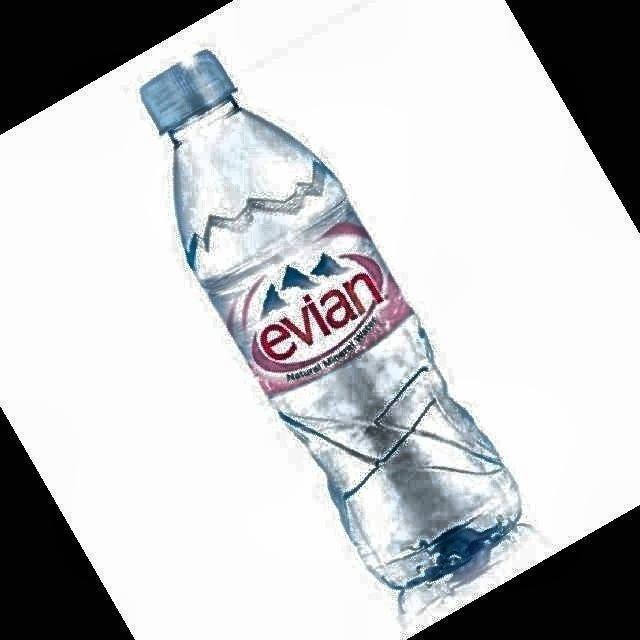plastic: (141, 51, 520, 589)
